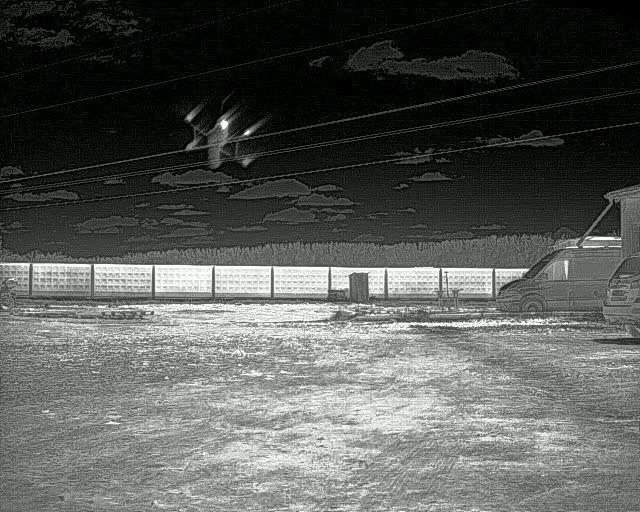drone-thermal: (180, 98, 268, 175)
